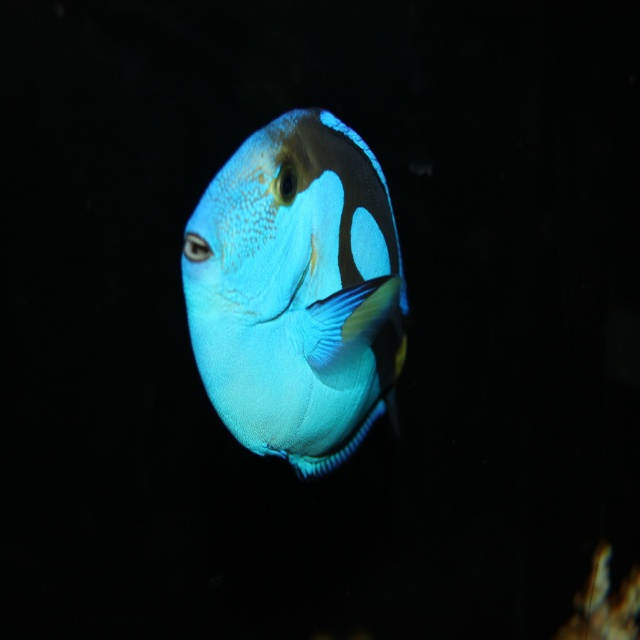Fish: (180, 109, 410, 476)
